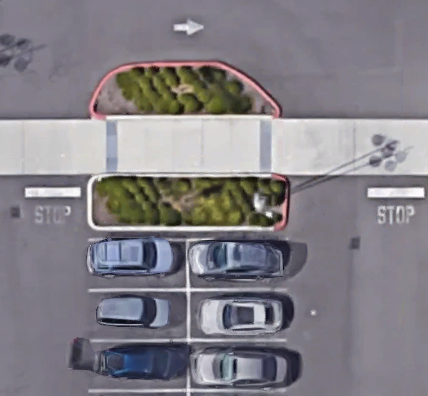Occupied: (88, 289, 188, 341), (88, 239, 188, 289), (188, 239, 286, 290), (188, 290, 286, 341), (89, 341, 188, 391), (188, 342, 286, 391)
